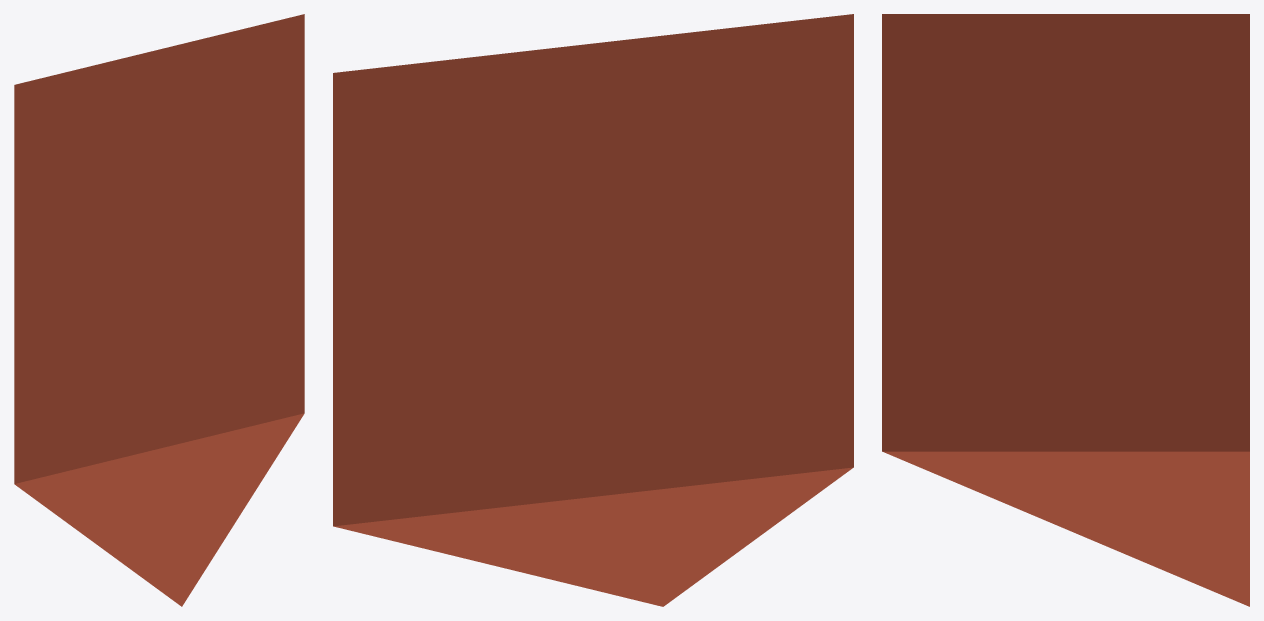
Rendered from r3c3_border_brown.gltf.
The picture shows the model from 3 angles, left to right: view 1: azimuth 30°, elevation 25°; view 2: azimuth 150°, elevation 25°; view 3: azimuth 270°, elevation 25°; orthographic projection. The views are drawn at different scales.
Visible parts, largest first — view 1: r3c3_border_brown; view 2: r3c3_border_brown; view 3: r3c3_border_brown.
Boxes of the visible parts, box(x1,y1,x2,y2) form: r3c3_border_brown: box(14, 14, 304, 606); r3c3_border_brown: box(333, 14, 853, 606); r3c3_border_brown: box(882, 14, 1249, 606).
Size of the model in its own units: 1.6 by 2.1 by 1.6.
1 material, 1 textured.
